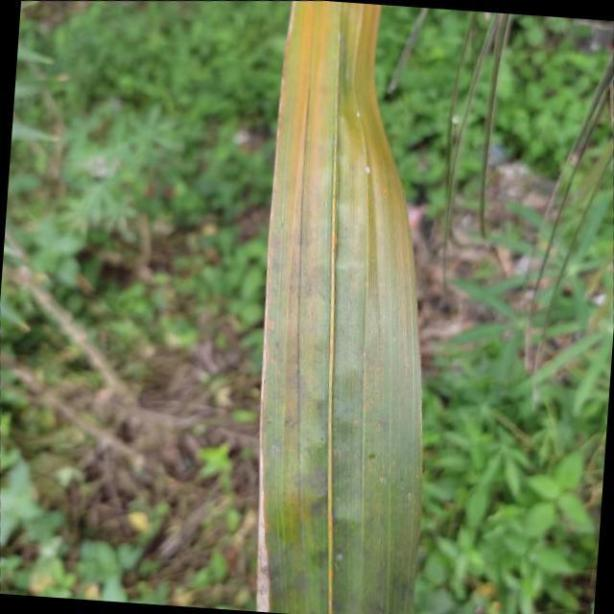Megnesium: (254, 0, 426, 614)
